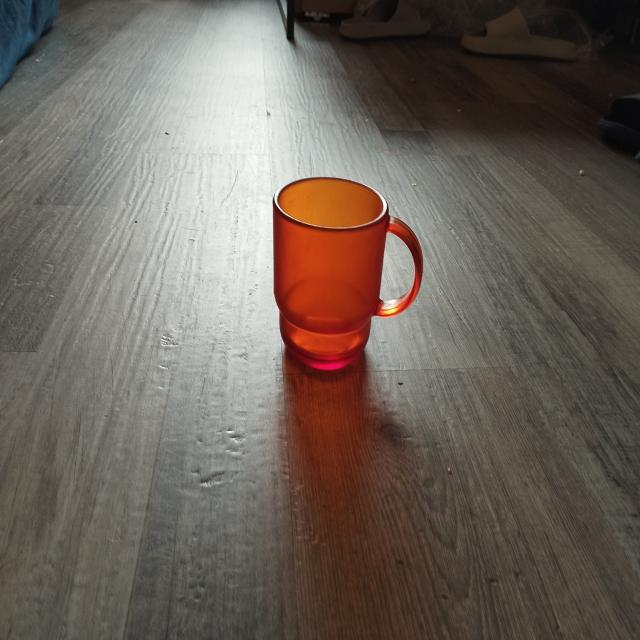Cup: (239, 144, 457, 384)
